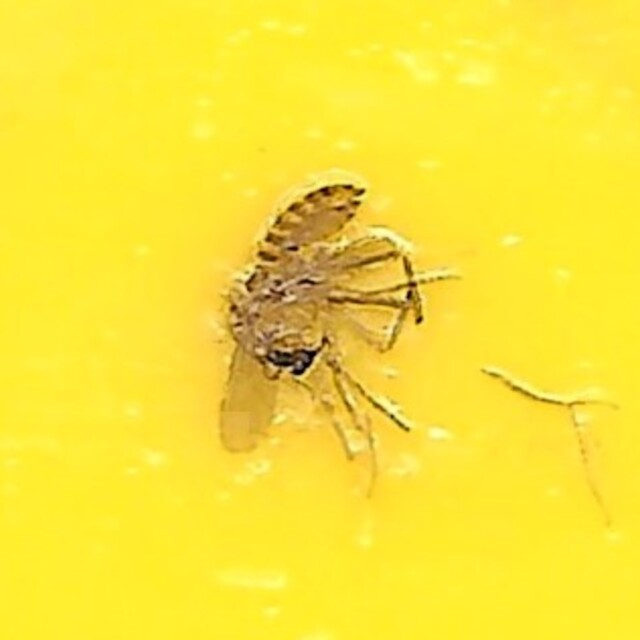Nematocera: (203, 174, 437, 466)
